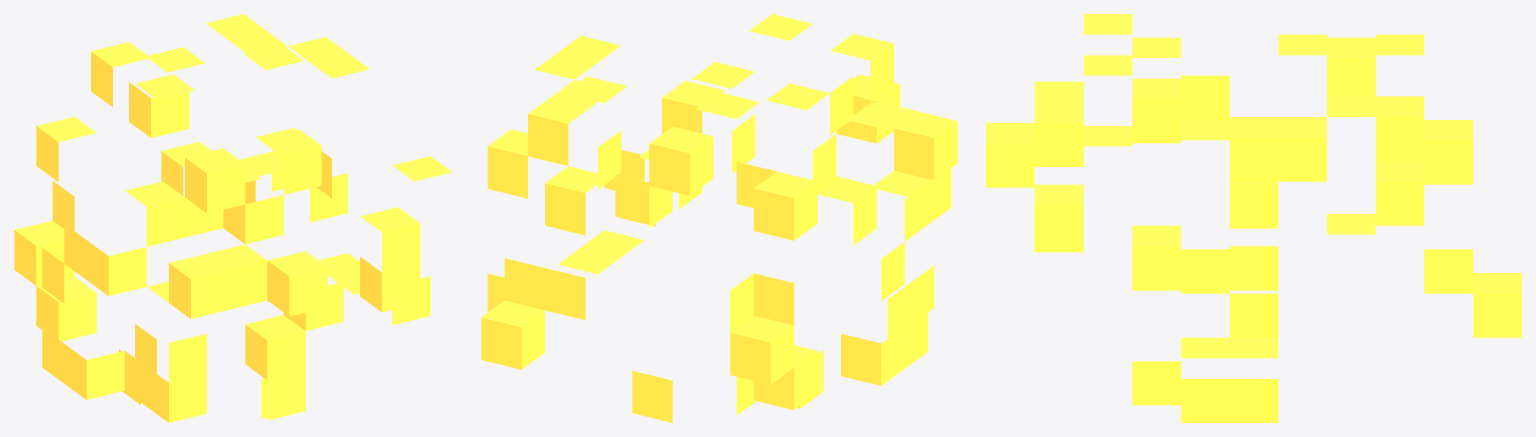
The model's file is tree-maple-1p2-gold-e0ab35.gltf.
3 renders of one model, left to right at view 1: azimuth 30°, elevation 25°; view 2: azimuth 150°, elevation 25°; view 3: azimuth 270°, elevation 25°, orthographic. The views are drawn at different scales.
Visible parts, largest first — view 1: tree-maple-1p2-gold-e0ab35; view 2: tree-maple-1p2-gold-e0ab35; view 3: tree-maple-1p2-gold-e0ab35.
Boxes of the visible parts, x1=… form: tree-maple-1p2-gold-e0ab35: x1=14, y1=14, x2=451, y2=422; tree-maple-1p2-gold-e0ab35: x1=481, y1=14, x2=957, y2=422; tree-maple-1p2-gold-e0ab35: x1=986, y1=14, x2=1521, y2=422.
Bounding box in the file's own units: 9 × 7 × 11.
